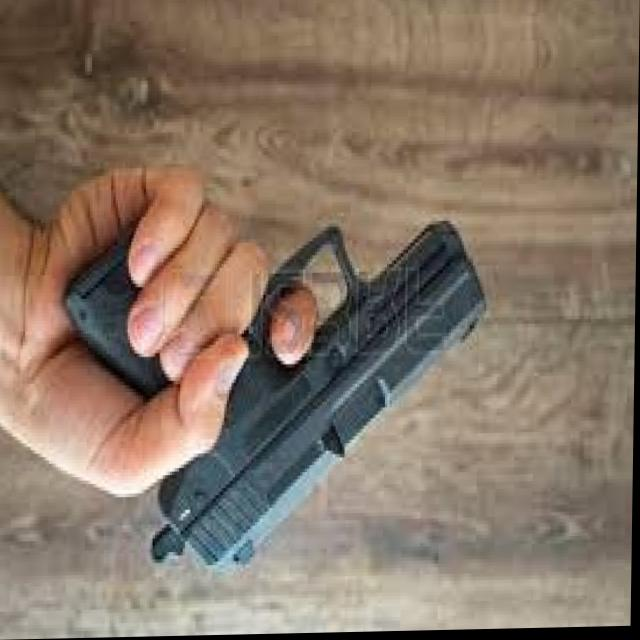handgun: (62, 220, 490, 573)
